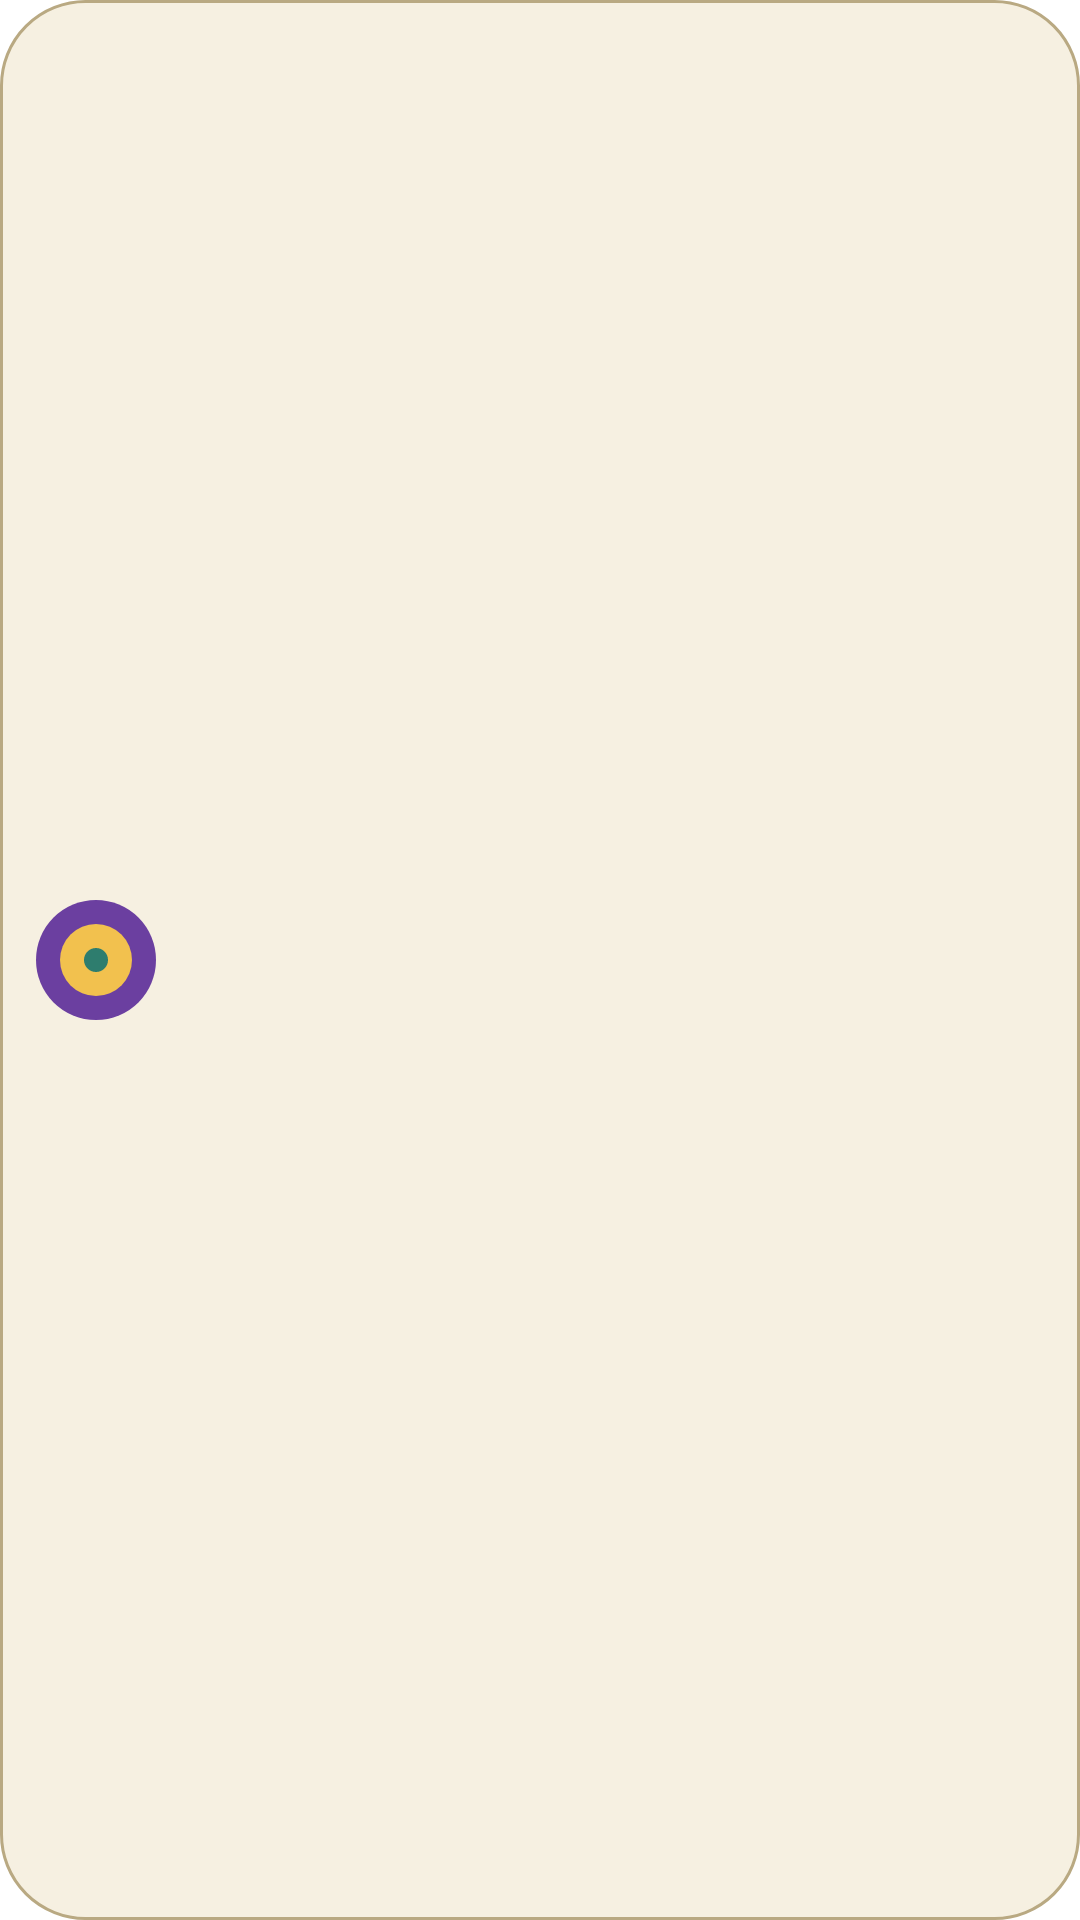

Icons on this 1080px x 1920px Android screen, each with the point to tap as (x,y):
navo widget medallion: (96,960)
